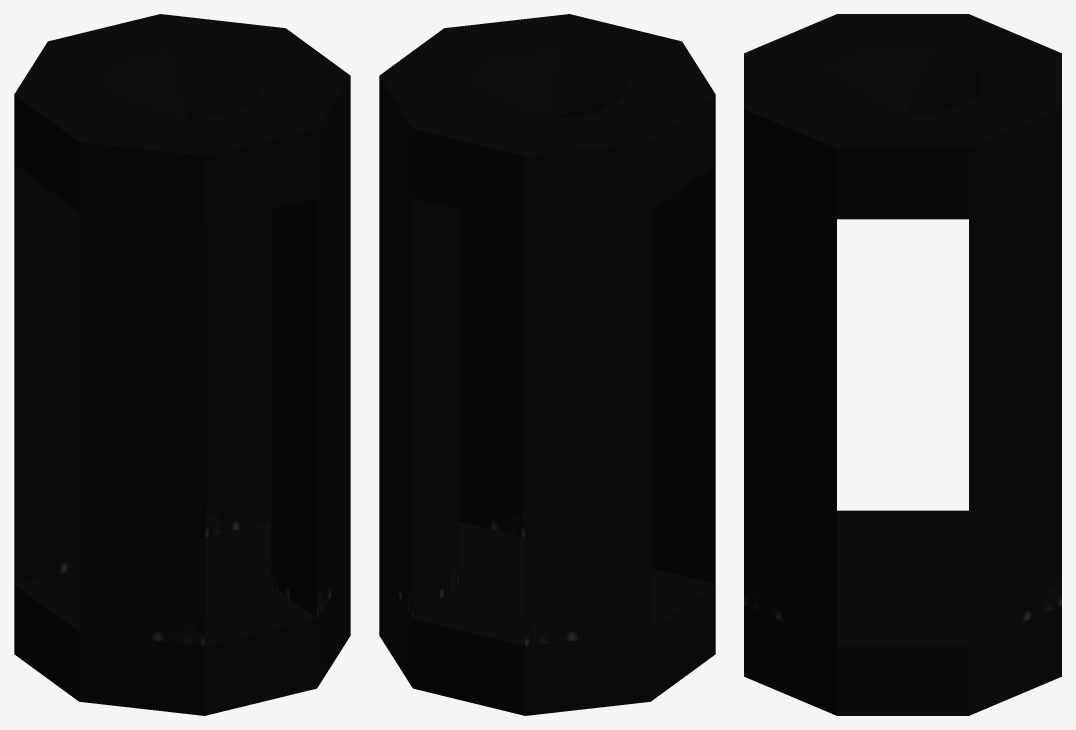
File: reservoir.obj
3 renders of one model, left to right at view 1: azimuth 30°, elevation 25°; view 2: azimuth 150°, elevation 25°; view 3: azimuth 270°, elevation 25°, orthographic.
Visible parts, largest first — view 1: MAIN_BODY_Cylinder; view 2: MAIN_BODY_Cylinder; view 3: MAIN_BODY_Cylinder.
Boxes of the visible parts, x1,y1,x2,y2 form: MAIN_BODY_Cylinder: (14,14,350,715); MAIN_BODY_Cylinder: (379,14,715,715); MAIN_BODY_Cylinder: (744,14,1061,715).
Bounding box in the file's own units: 0.2541 × 0.5005 × 0.2541.
